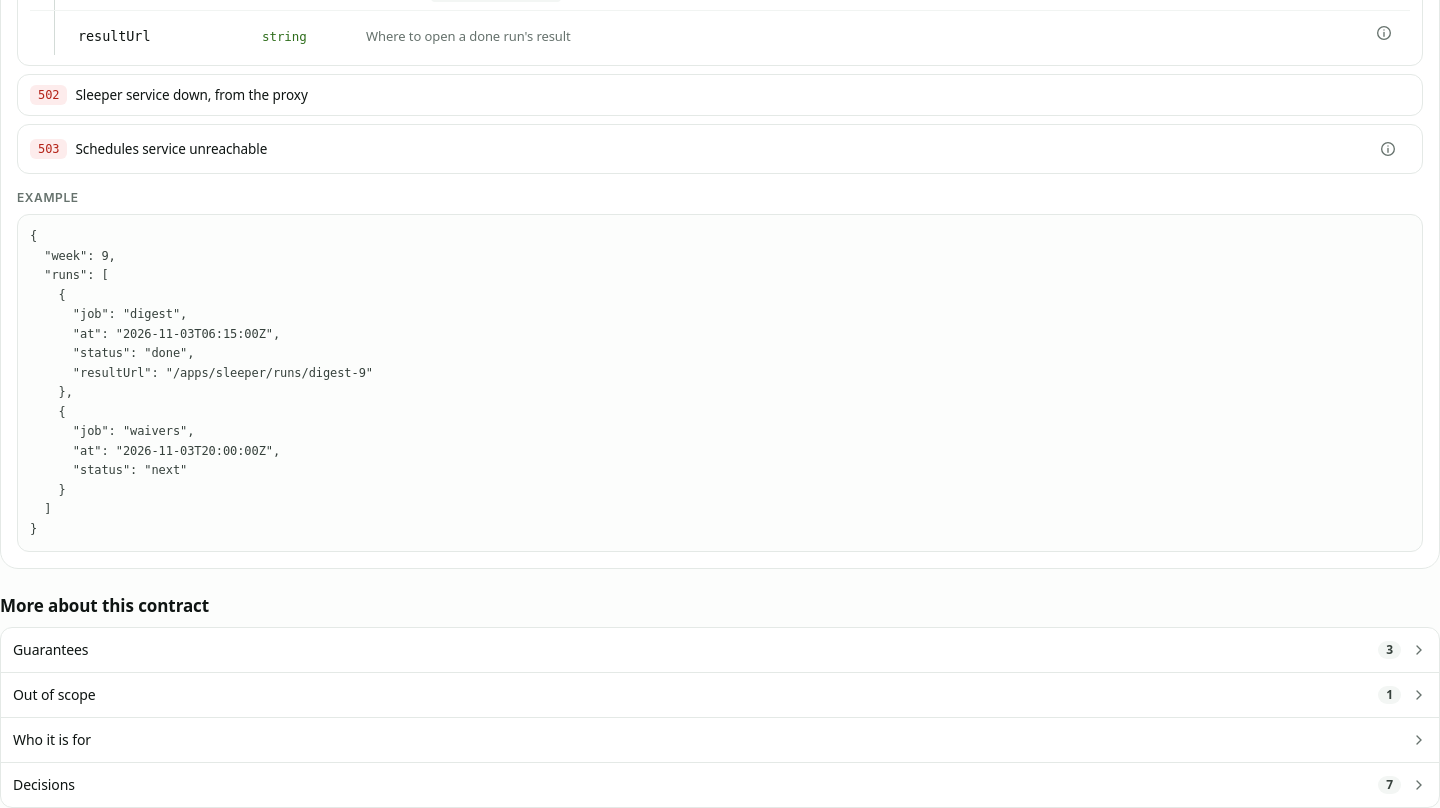
Test case: the intent and the decisions are not on the page: each opens in a sheet, as stored
(page scrolled)
Expected: the text "Covers a week with no runs" is not shown
Click the button "Guarantees 3". click: (51, 650)
box: [1,628,1439,672]
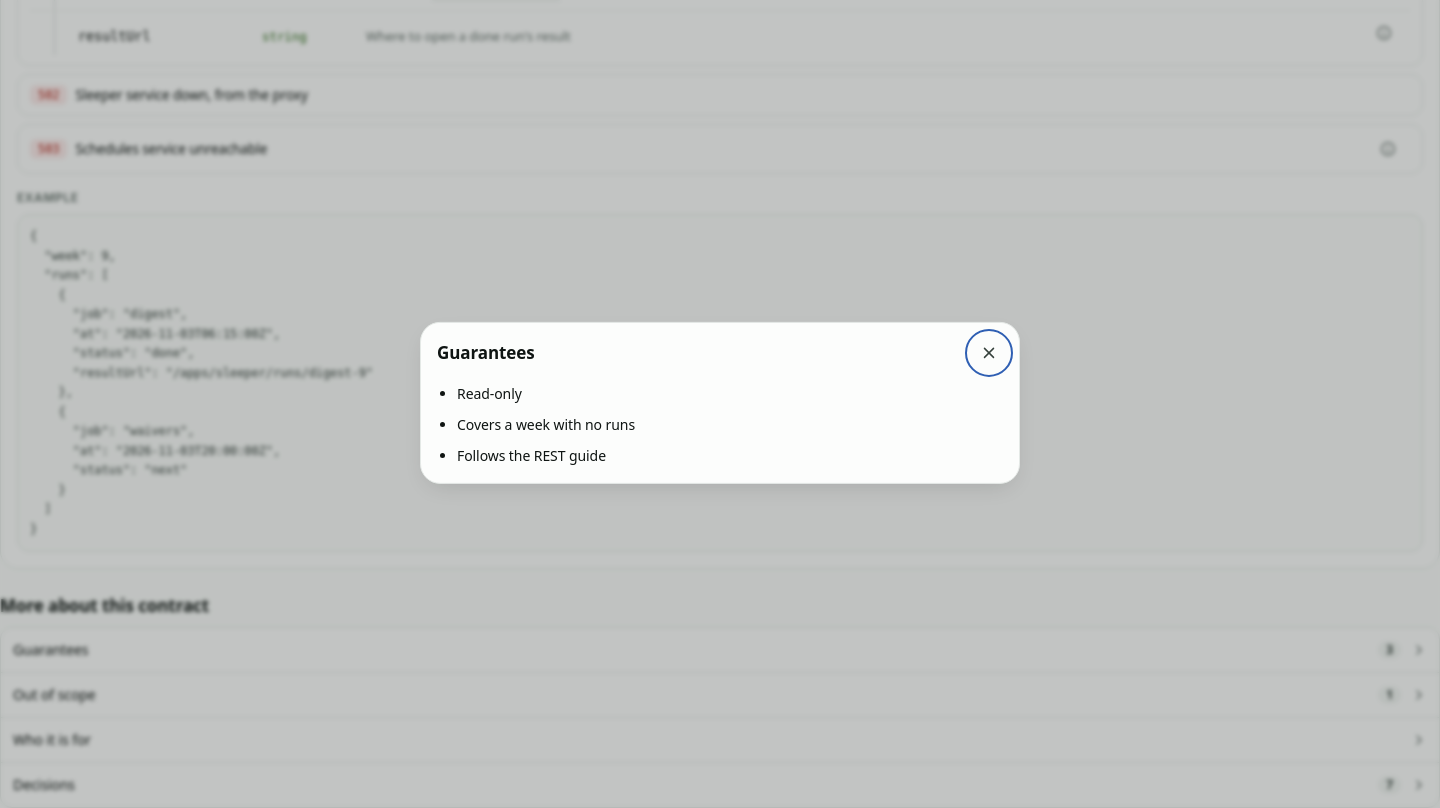
Now the list items read "Read-only", "Covers a week with no runs", "Follows the REST guide", in this order, box [457,384,522,403]; [457,415,635,434]; [457,445,606,464]
Press Escape
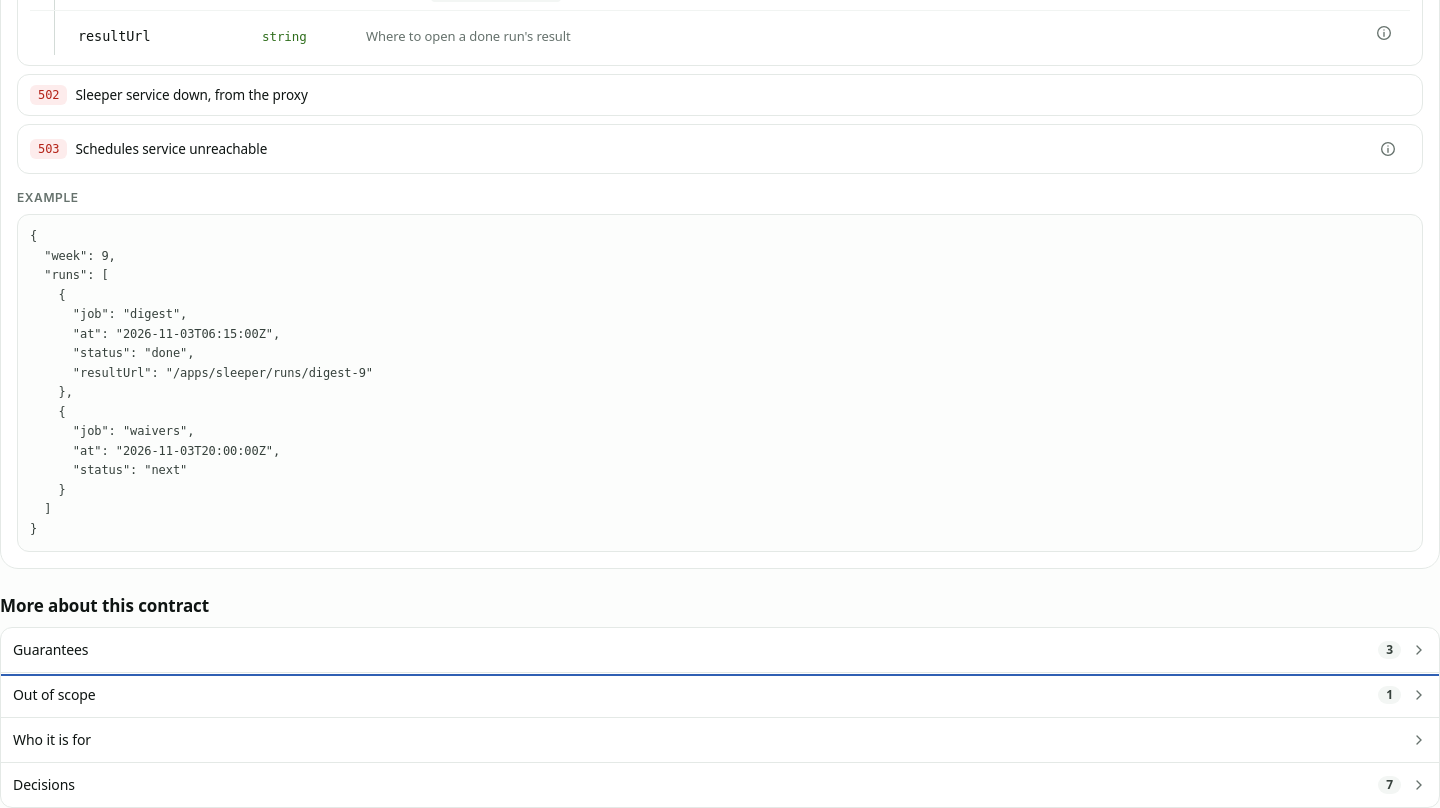
Click the button "Decisions 7". click: (44, 785)
box: [1,763,1439,807]
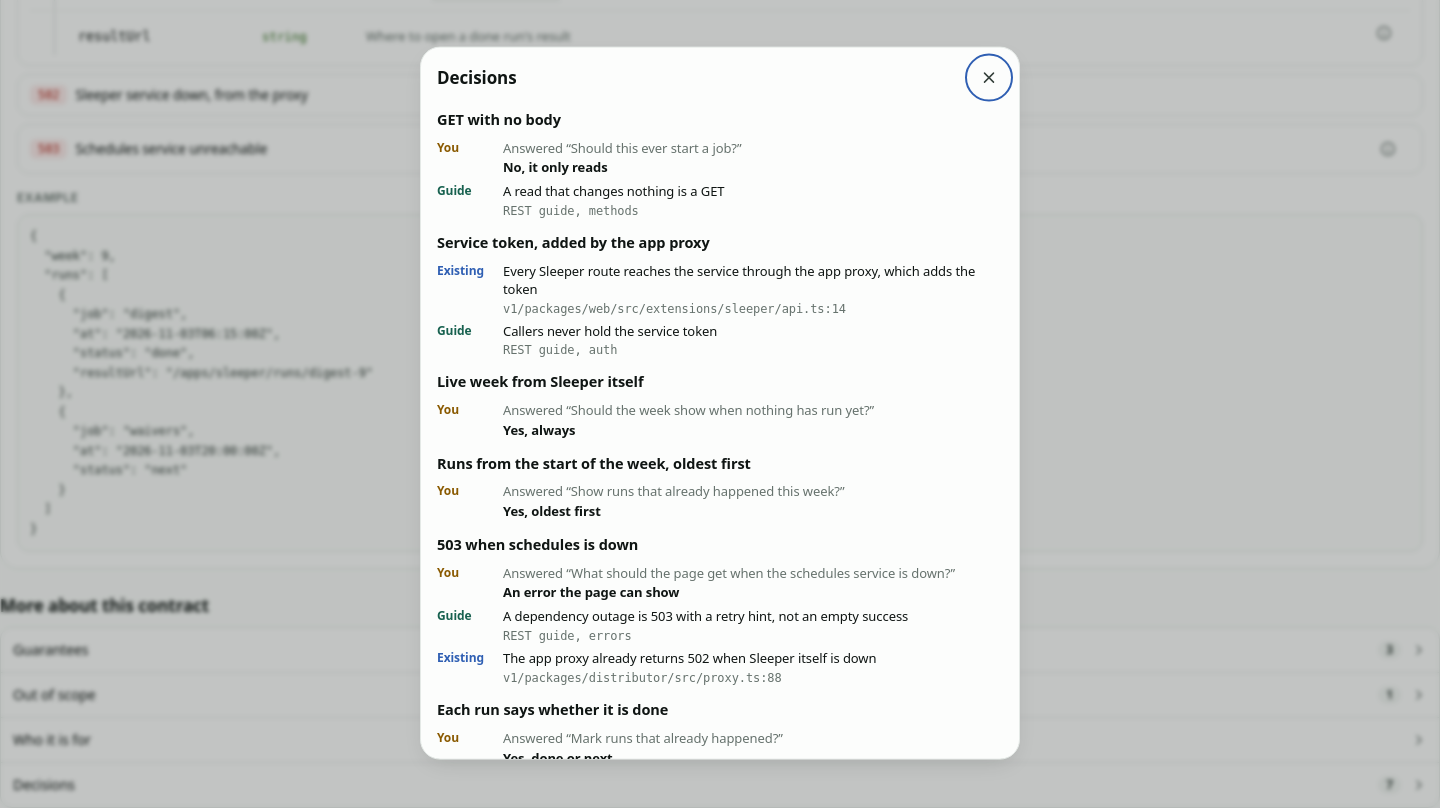
Now the dialog "Decisions" shows "Yes, always", box [503,420,576,438]
